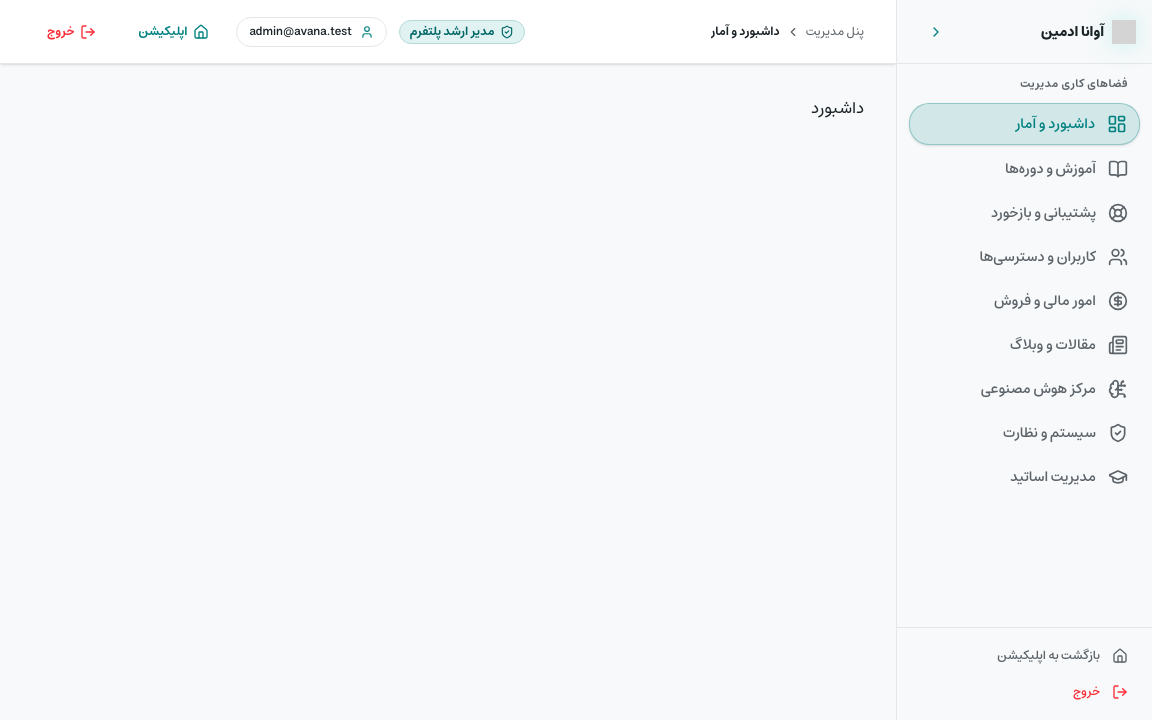
Test: Admin Shell & Navigation Architecture › Case 8 — desktop sidebar collapse toggle collapses and expands sidebar
The image size is (1152, 720).
Expected: the text "داشبورد" is shown, [811, 94, 864, 122]
// Click collapse
Click the button named "جمع کردن نوار کناری": click(936, 32) [913, 16, 959, 48]
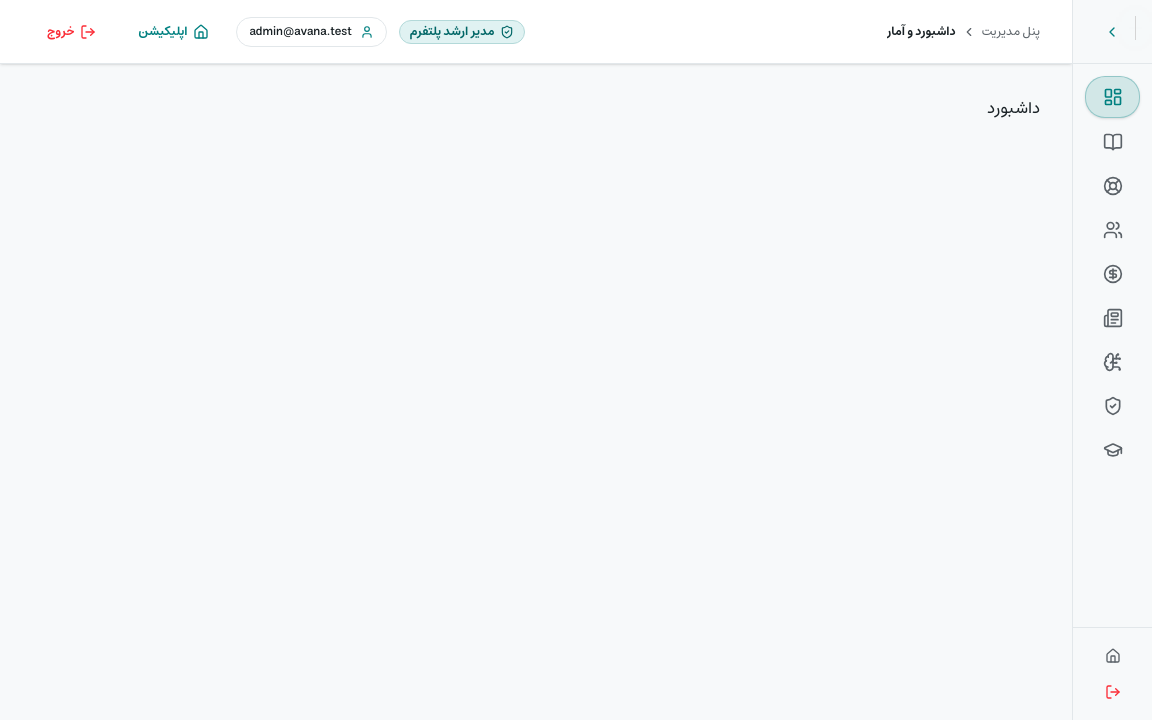
Expected: the button named "گسترش نوار کناری" is shown
// Click expand
Click the button named "گسترش نوار کناری": click(1112, 32) [1089, 16, 1135, 48]
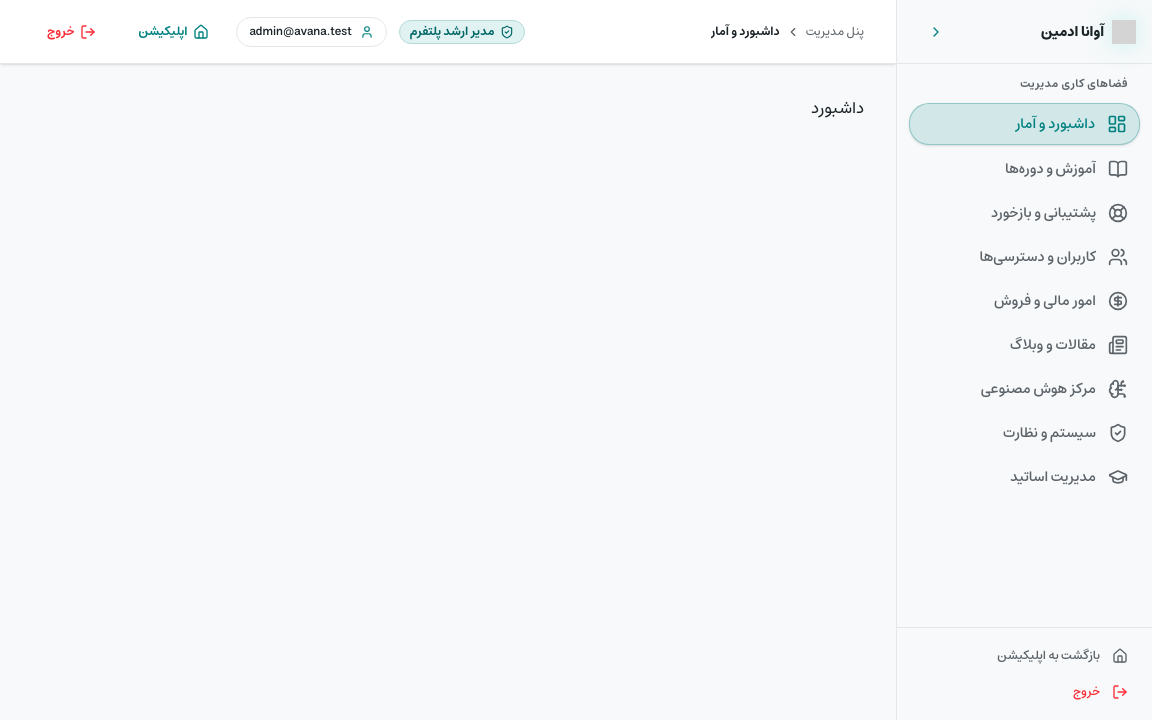
Expected: the button named "جمع کردن نوار کناری" is shown, [913, 16, 959, 48]
